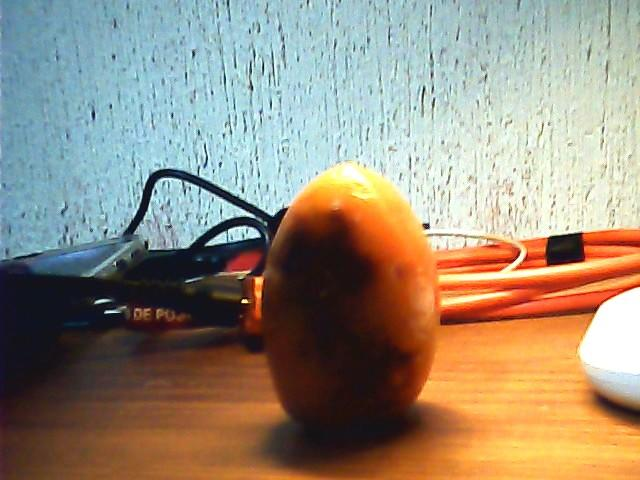defectuoso: (262, 162, 437, 429)
